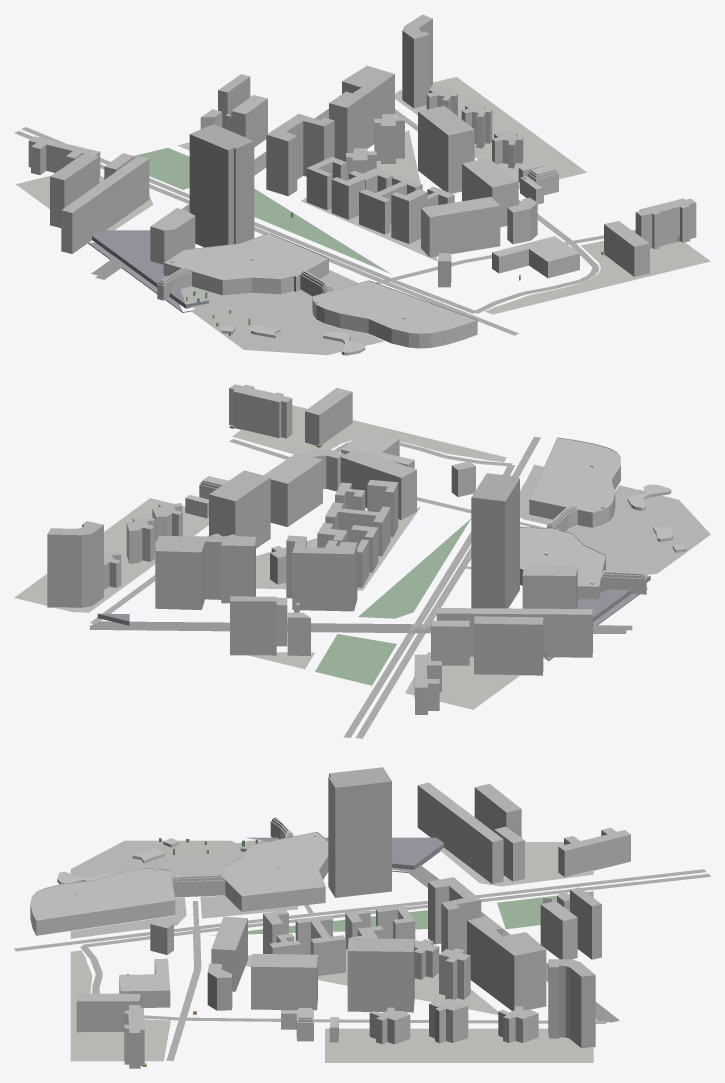
3 views of the same model, one above another, from view 1: azimuth 30°, elevation 25°; view 2: azimuth 150°, elevation 25°; view 3: azimuth 270°, elevation 25° (orthographic). The views are drawn at different scales.
Size of the model in its own units: 557 by 124 by 666.
